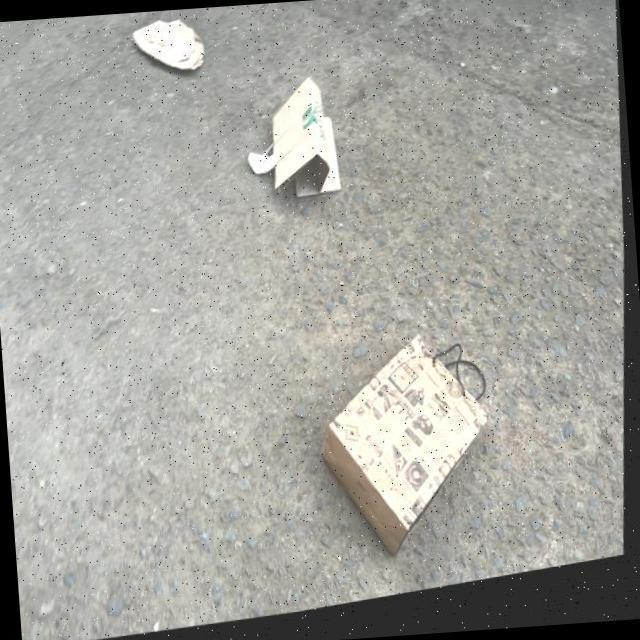Paper_Bag: (307, 328, 509, 582), (238, 74, 354, 225), (125, 10, 212, 91)
